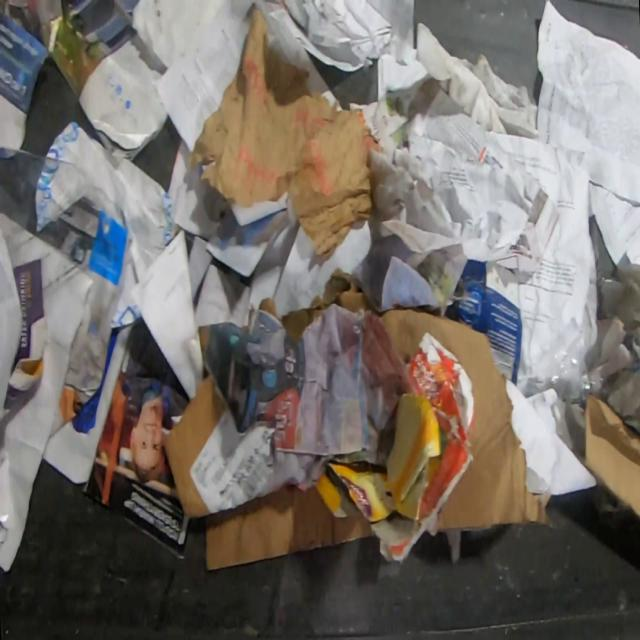cardboard: (162, 372, 377, 571), (378, 307, 558, 535), (44, 118, 174, 331), (296, 392, 443, 544), (571, 393, 640, 523), (453, 258, 523, 385), (351, 204, 416, 312), (279, 270, 374, 342), (258, 297, 280, 320), (198, 326, 211, 358)
soft_plastic: (0, 146, 125, 325), (590, 251, 640, 436), (530, 320, 610, 409)
